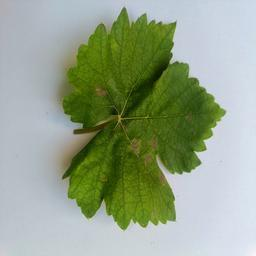Powdery-Mildew: (124, 132, 160, 168), (149, 175, 166, 192), (148, 202, 165, 218)
